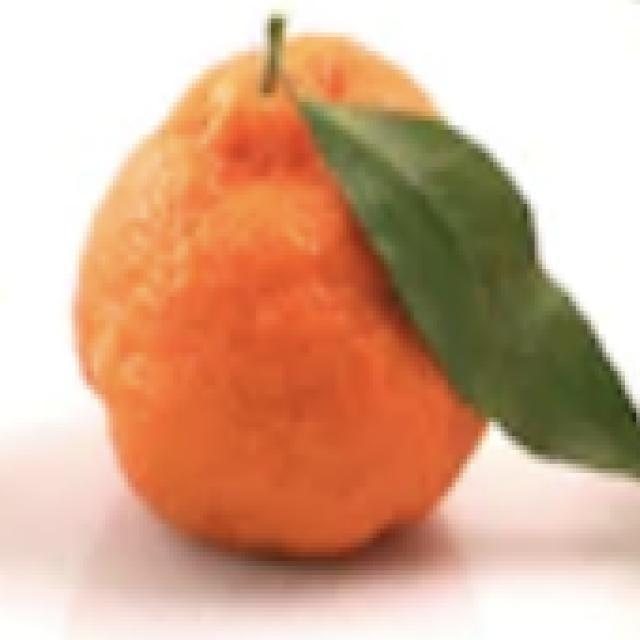Orange: (73, 24, 492, 559)
